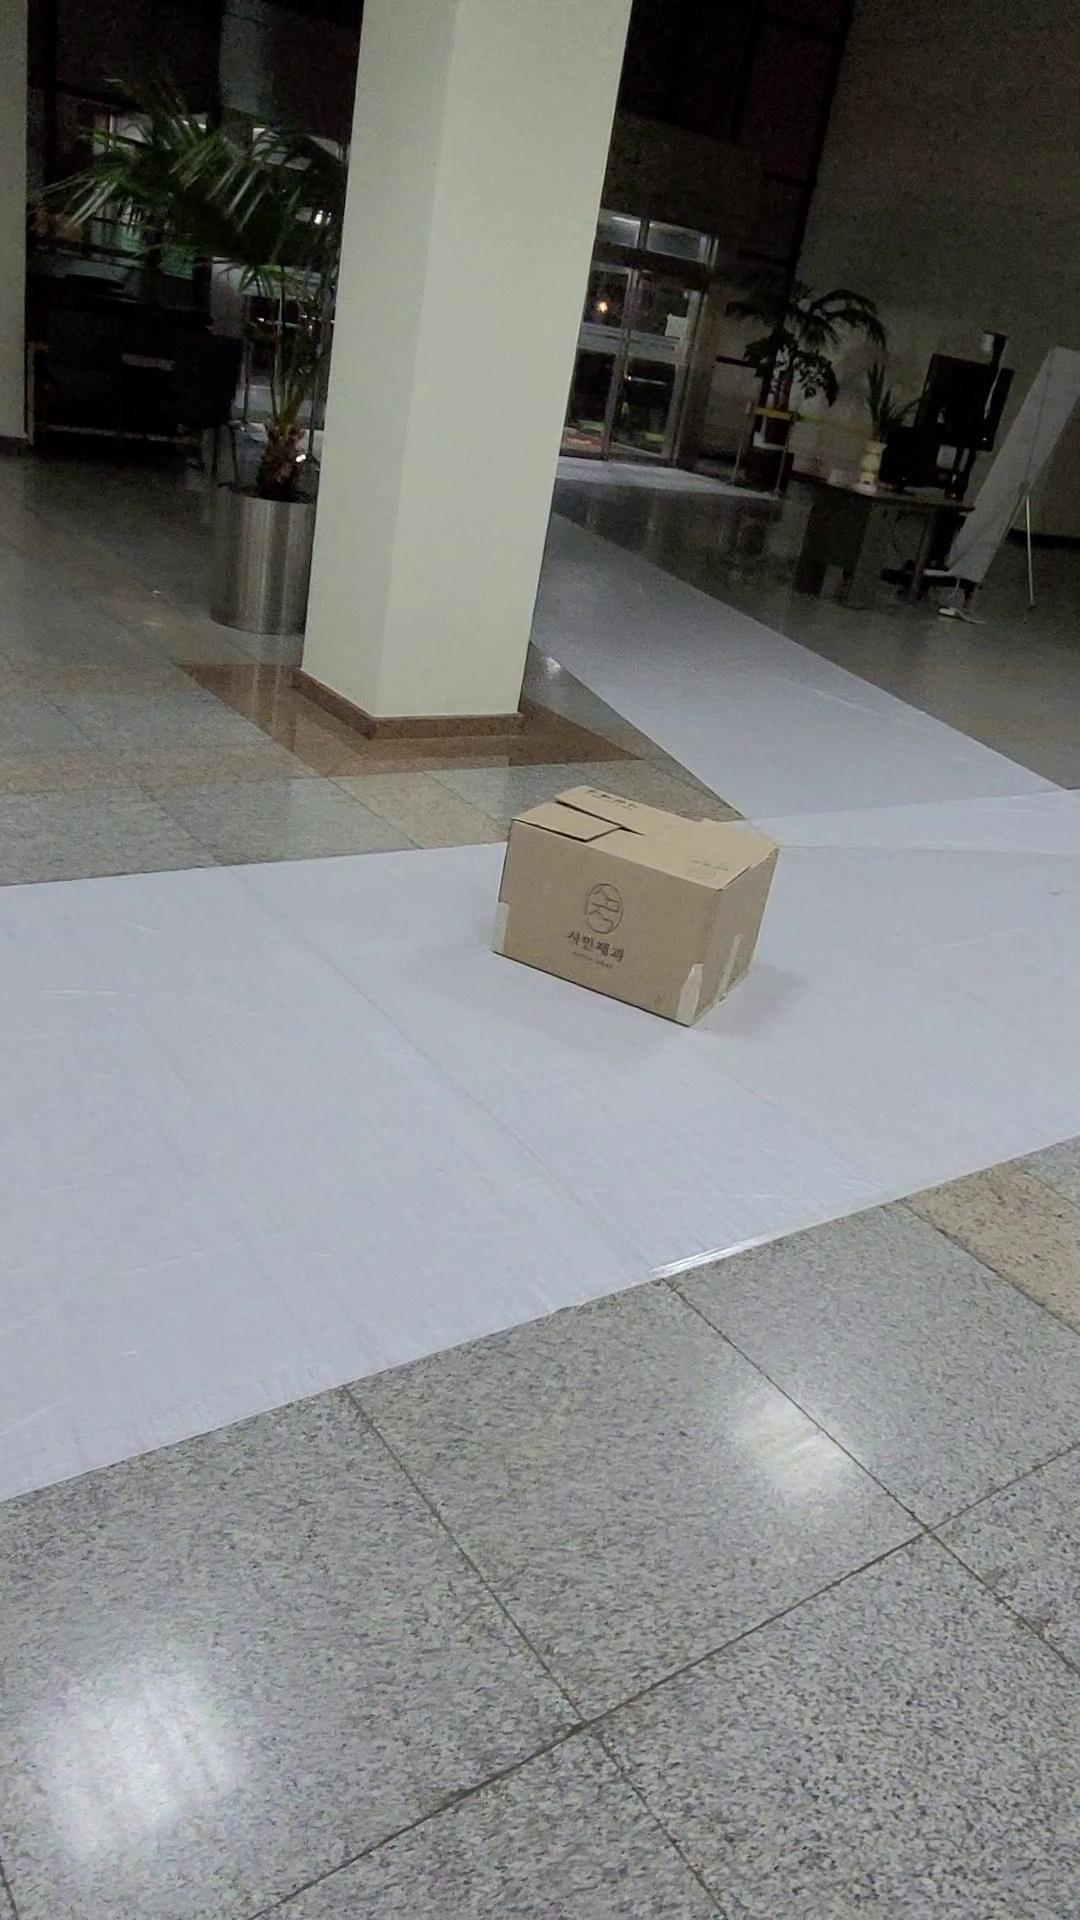Box: (448, 750, 832, 1069)
